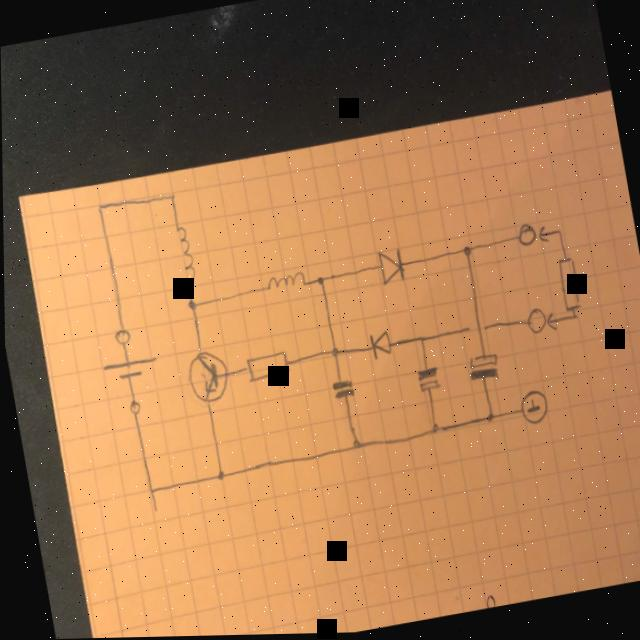capacitor: (465, 352, 501, 385), (413, 366, 441, 395), (328, 378, 355, 403)
crossover: (462, 319, 491, 342)
diode: (374, 246, 407, 290), (366, 328, 393, 361)
ground: (516, 388, 550, 428)
inductor: (171, 223, 196, 289), (262, 270, 306, 295)
junction: (482, 412, 494, 425), (166, 191, 177, 205), (461, 246, 472, 260), (569, 310, 580, 324), (95, 203, 106, 216), (186, 300, 197, 313), (145, 484, 156, 497), (214, 469, 225, 482), (350, 439, 361, 452), (313, 275, 324, 288), (328, 347, 339, 360), (415, 334, 426, 347), (428, 423, 439, 436), (552, 227, 563, 240)
resistor: (554, 256, 582, 315), (242, 351, 290, 385)
source: (96, 351, 160, 387)
transistor: (181, 347, 232, 409)
